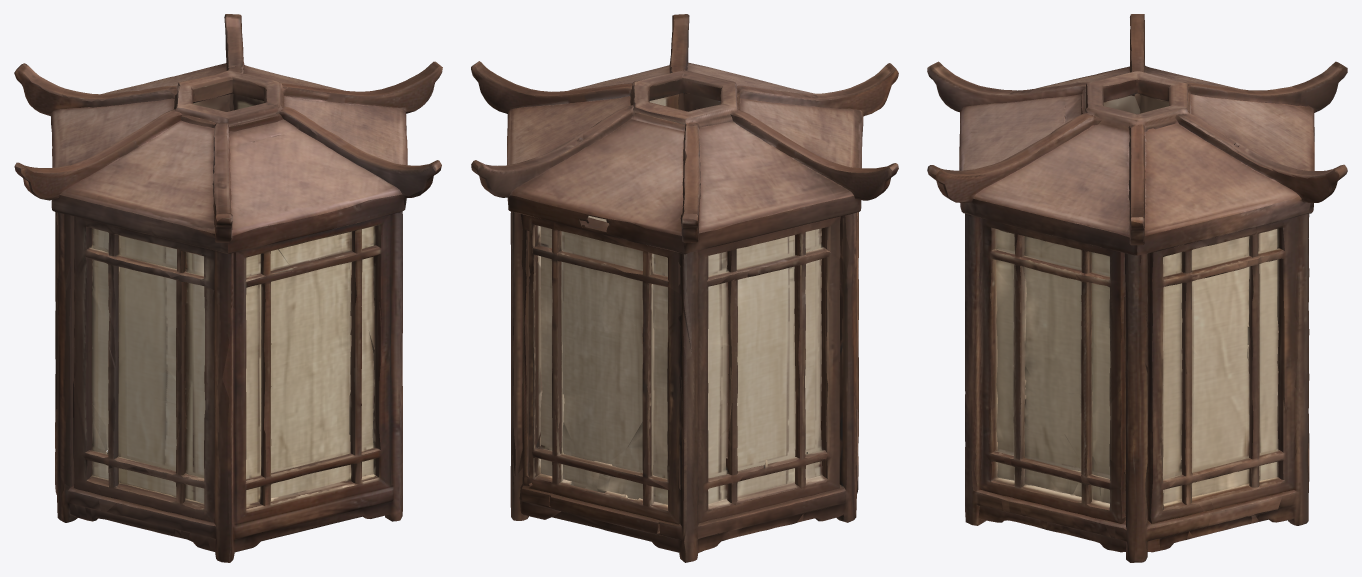
Rendered from lantern-hex_textured.glb.
3 renders of one model, left to right at view 1: azimuth 30°, elevation 25°; view 2: azimuth 150°, elevation 25°; view 3: azimuth 270°, elevation 25°, orthographic.
Parts seen in each view (by area): view 1: geometry_0; view 2: geometry_0; view 3: geometry_0.
Part boxes in pixels (x1,y1,x2,y2): geometry_0: (14,14,442,562); geometry_0: (471,14,898,562); geometry_0: (927,14,1347,562).
Bounding box in the file's own units: 0.5151 × 0.45 × 0.4443.
1 material, 1 textured.
